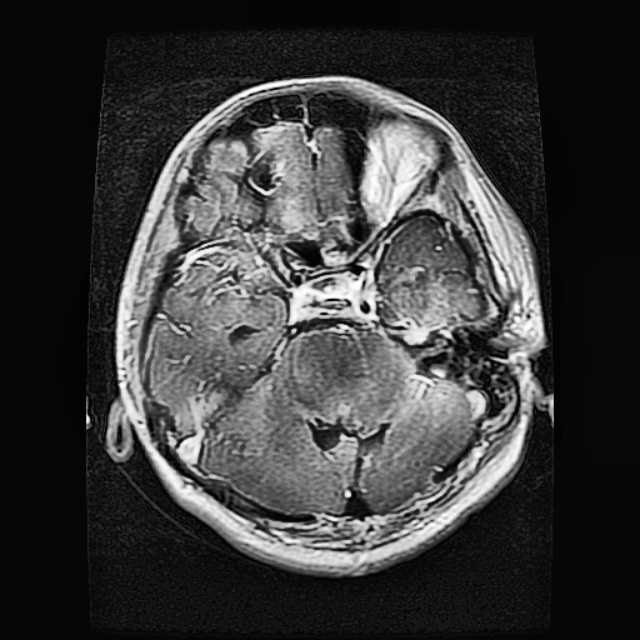Glioma: (380, 215, 478, 332)
